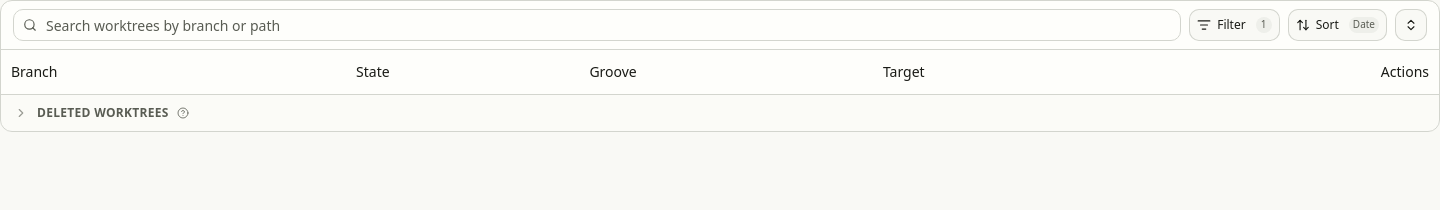
Scenario: WorktreesTable › shows Forgetting... label when isForgetAllDeletedWorktreesPending is true
The width and height of the screenshot is (1440, 210).
Expand the collapsed section first
Click the button named "Expand Deleted worktrees section" at (21, 112), box [11,102,31,122]
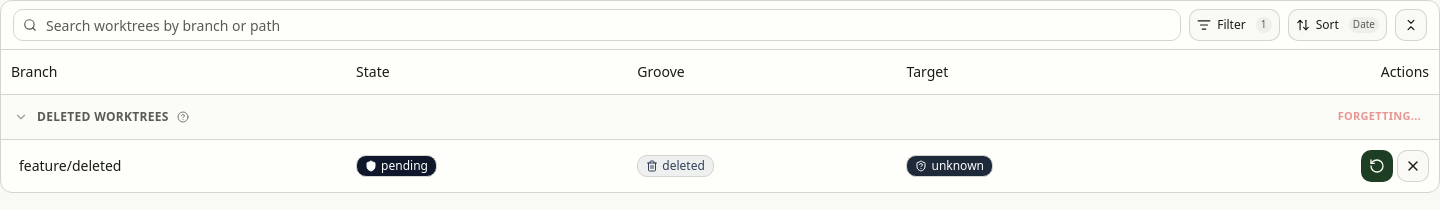
Result: the button with aria-label "Forgetting all deleted worktrees" is disabled at [1330,102,1429,130]
Result: the button with aria-label "Forgetting all deleted worktrees" reads "Forgetting..." at [1330,102,1429,130]
